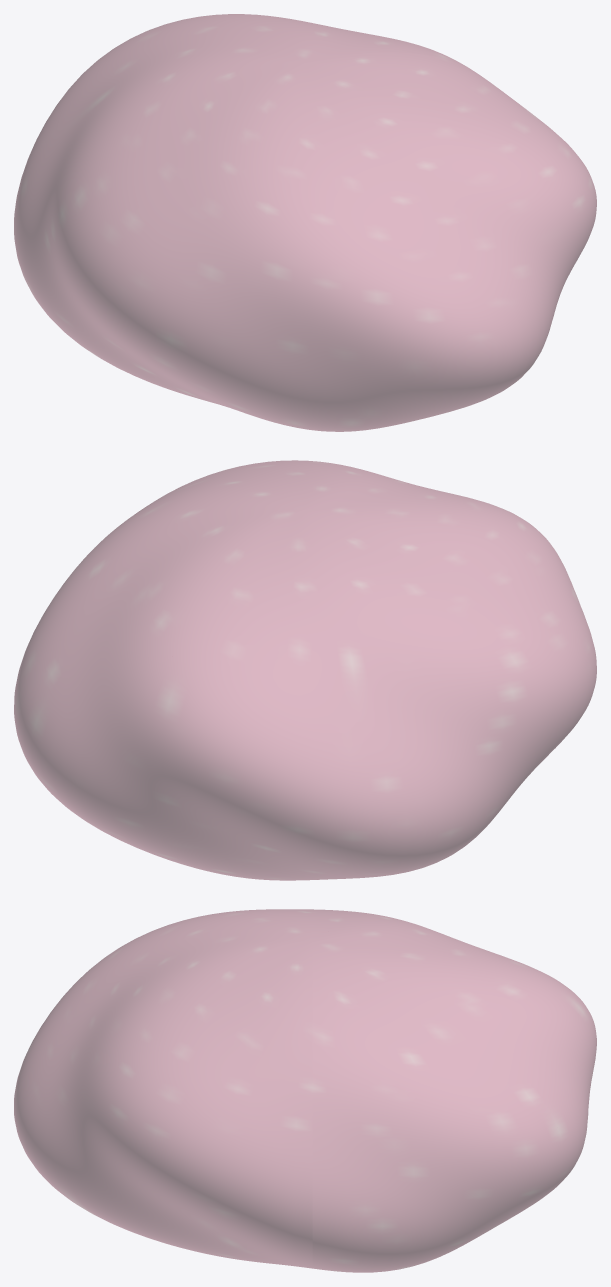
The model's file is rose-quartz.glb.
3 renders of one model, top to bottom at view 1: azimuth 30°, elevation 25°; view 2: azimuth 150°, elevation 25°; view 3: azimuth 270°, elevation 25°, orthographic. The views are drawn at different scales.
Visible parts, largest first — view 1: rose-quartz; view 2: rose-quartz; view 3: rose-quartz.
Boxes of the visible parts, x1,y1,x2,y2 form: rose-quartz: [14, 14, 596, 431]; rose-quartz: [14, 460, 596, 880]; rose-quartz: [14, 909, 596, 1272].
Bounding box in the file's own units: 2.18 × 1.39 × 2.5.
